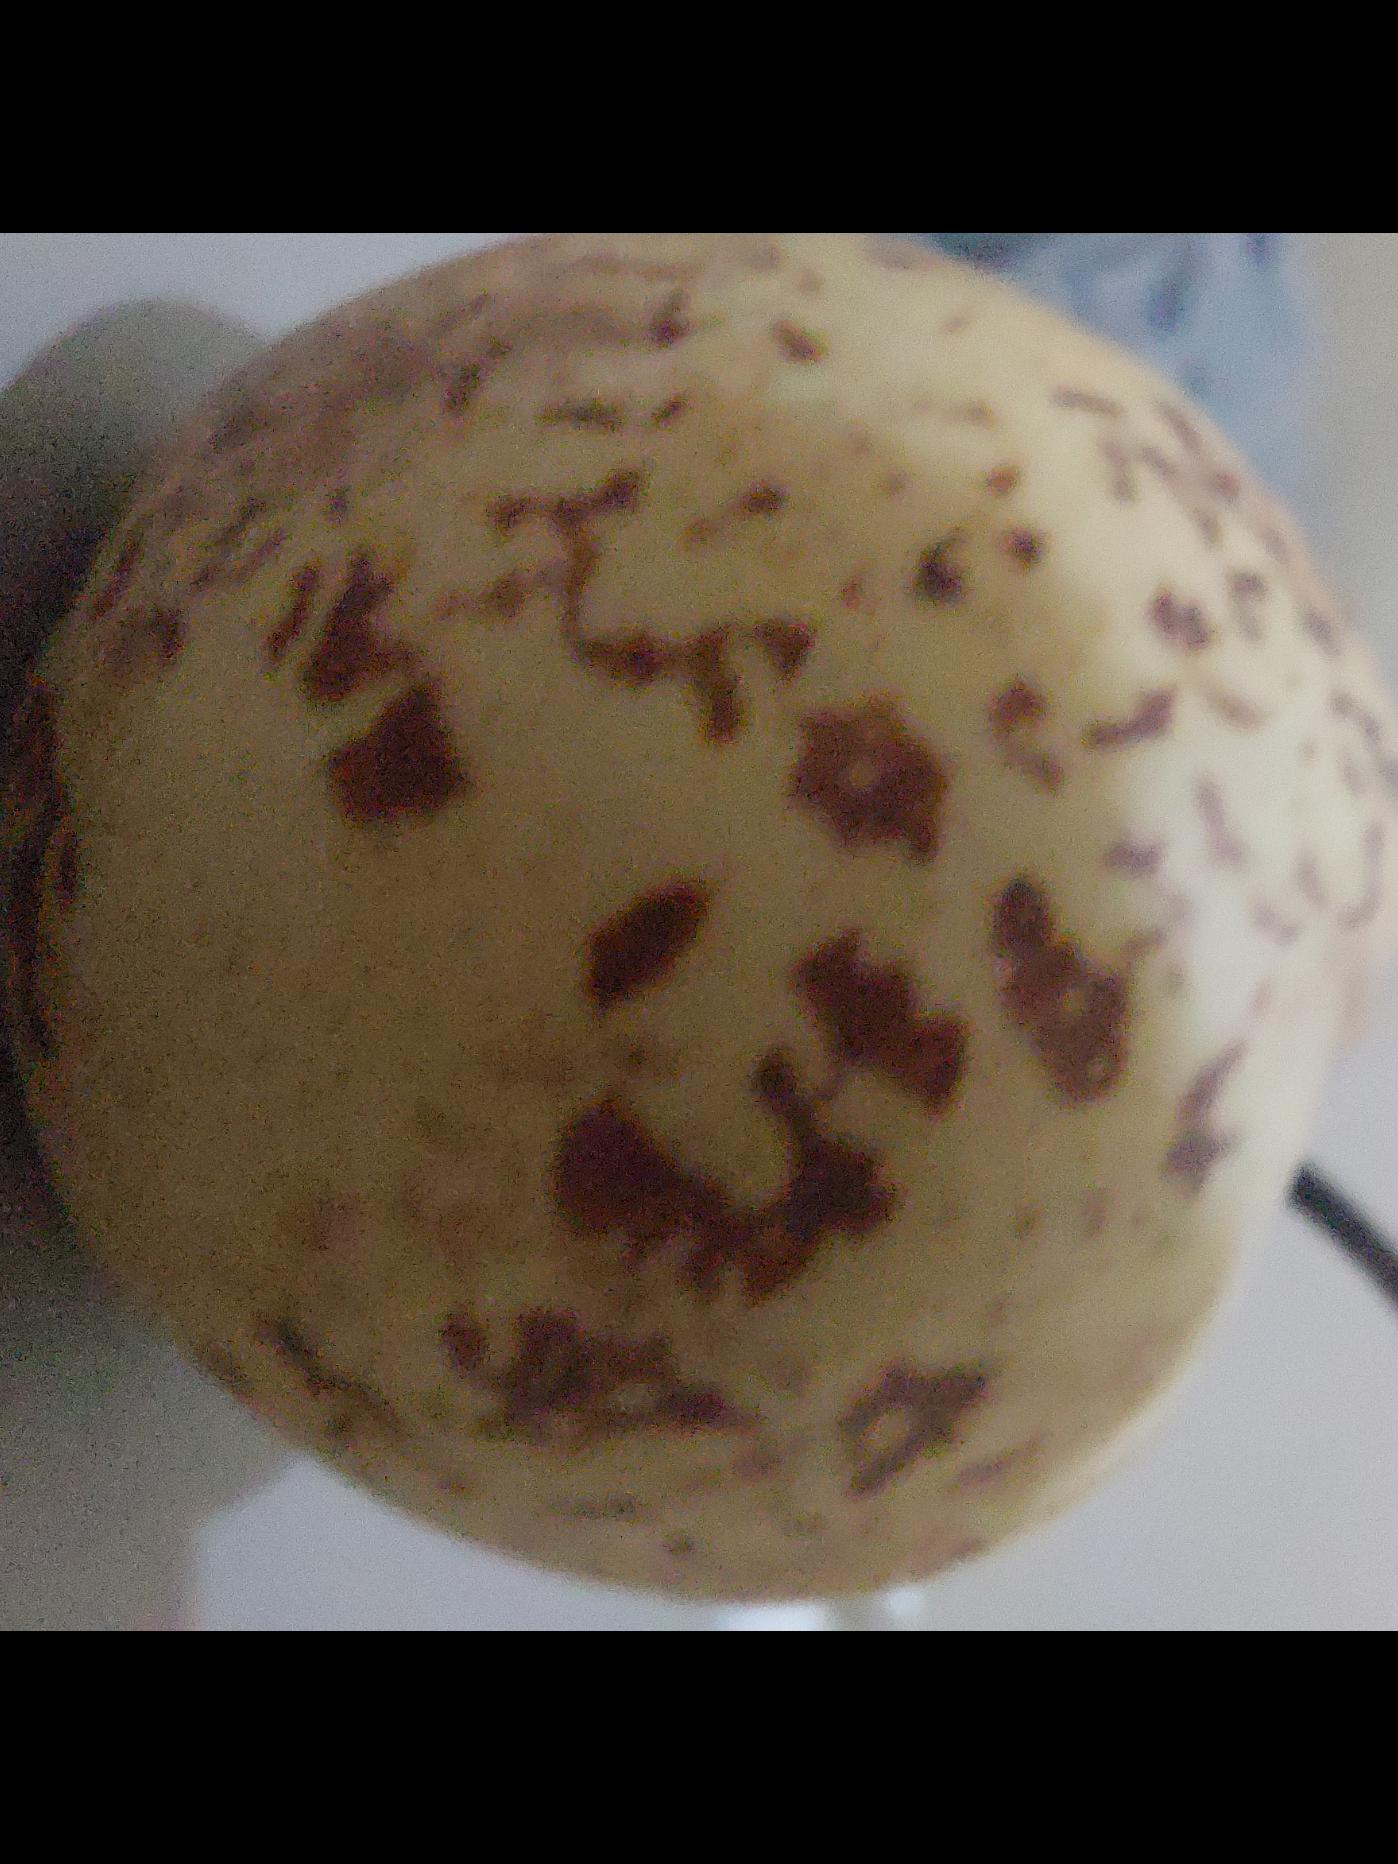Bad Pear: (3, 233, 1398, 1631)
